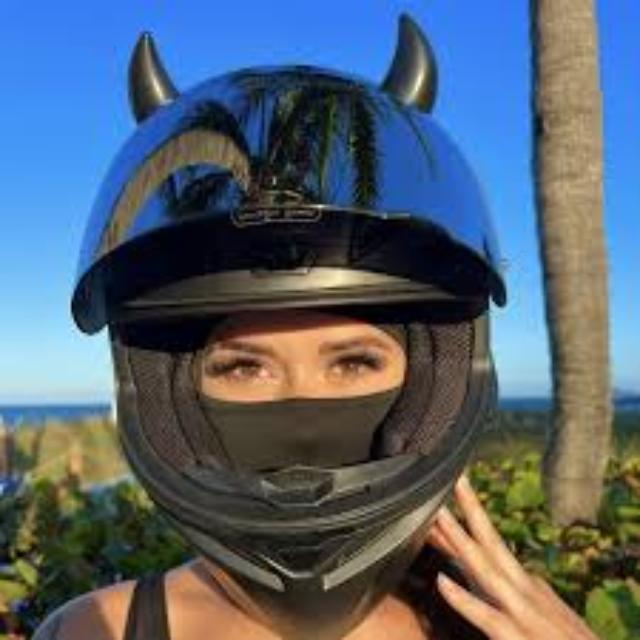motorcycle-helmets: (64, 19, 546, 608)
